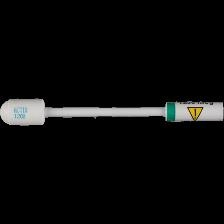63459-512: (0, 0, 224, 224)
